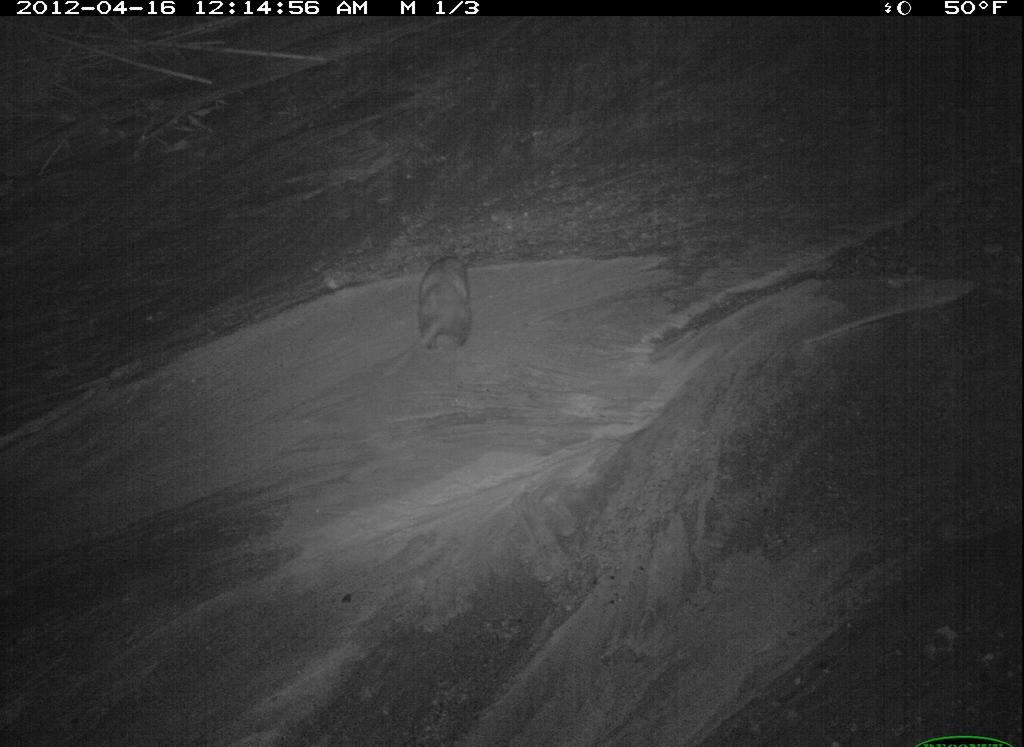opossum: (764, 495, 963, 747)
